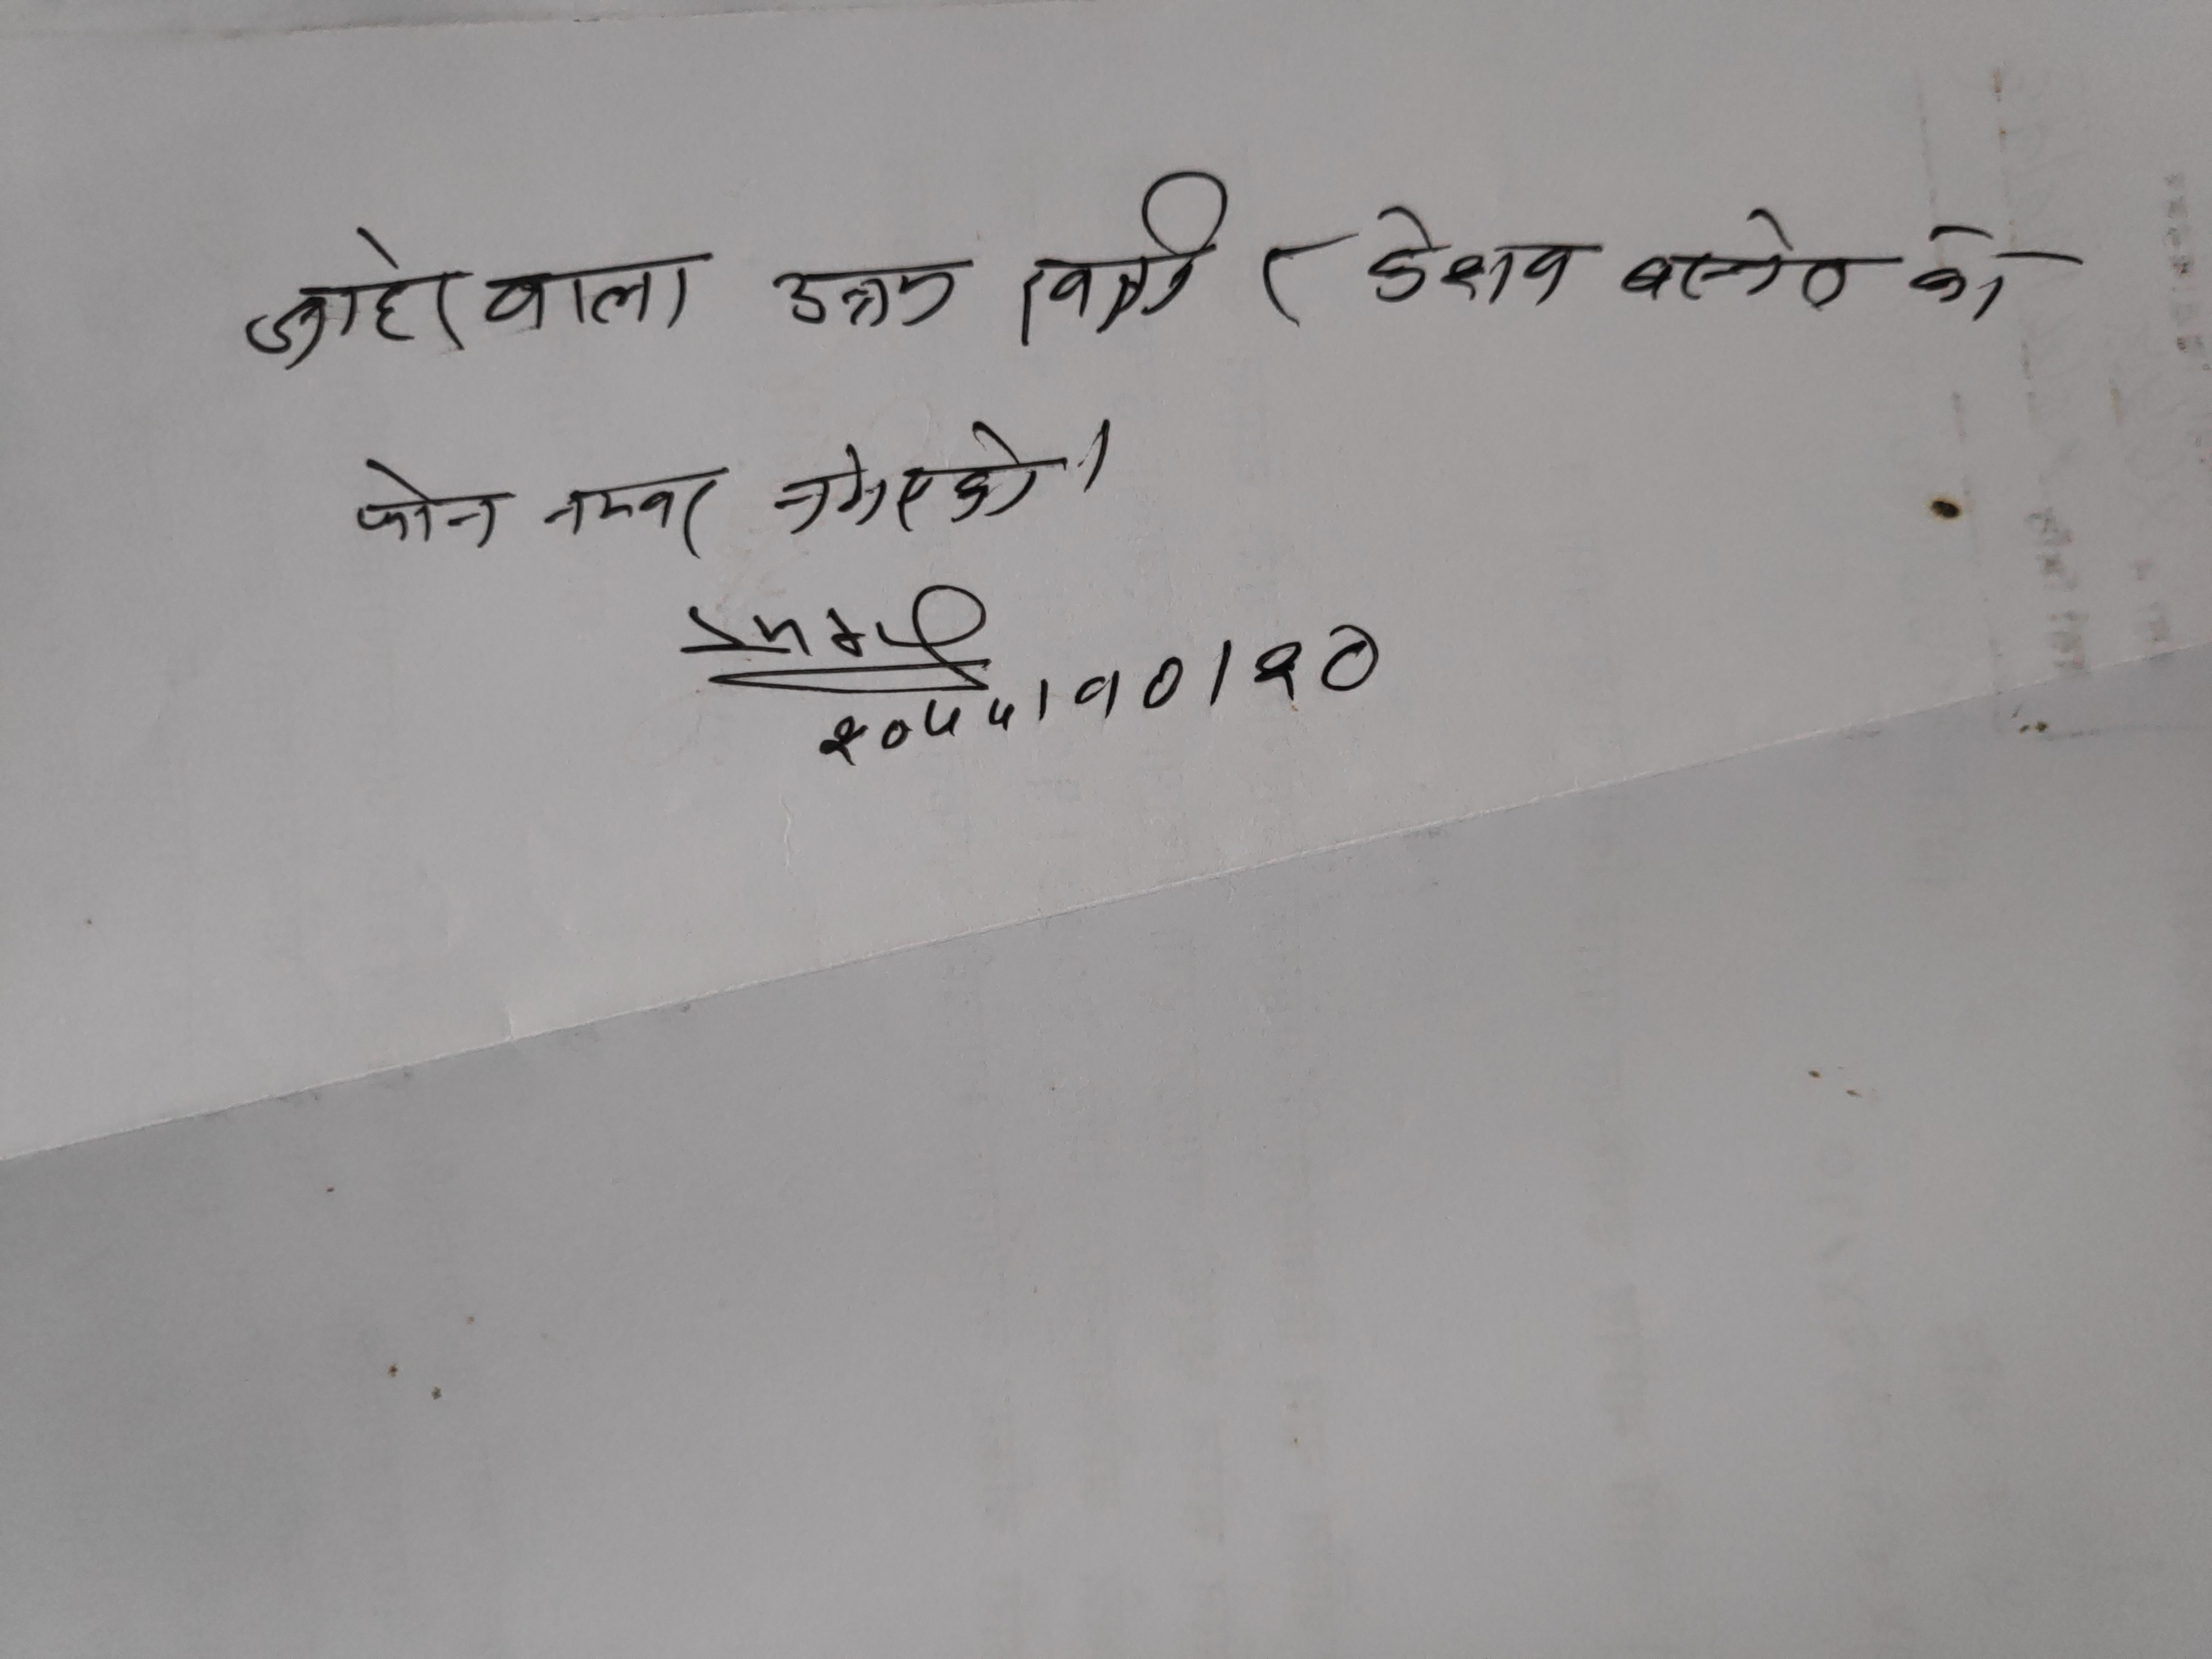text: (230, 221, 709, 369), (1061, 619, 1386, 742), (1017, 169, 1242, 343), (765, 415, 1052, 544), (1615, 195, 1867, 317), (1348, 204, 1585, 314), (531, 457, 740, 568), (761, 253, 991, 342), (350, 451, 502, 566), (798, 697, 1033, 769), (1900, 218, 2026, 338), (1251, 228, 1332, 328)
